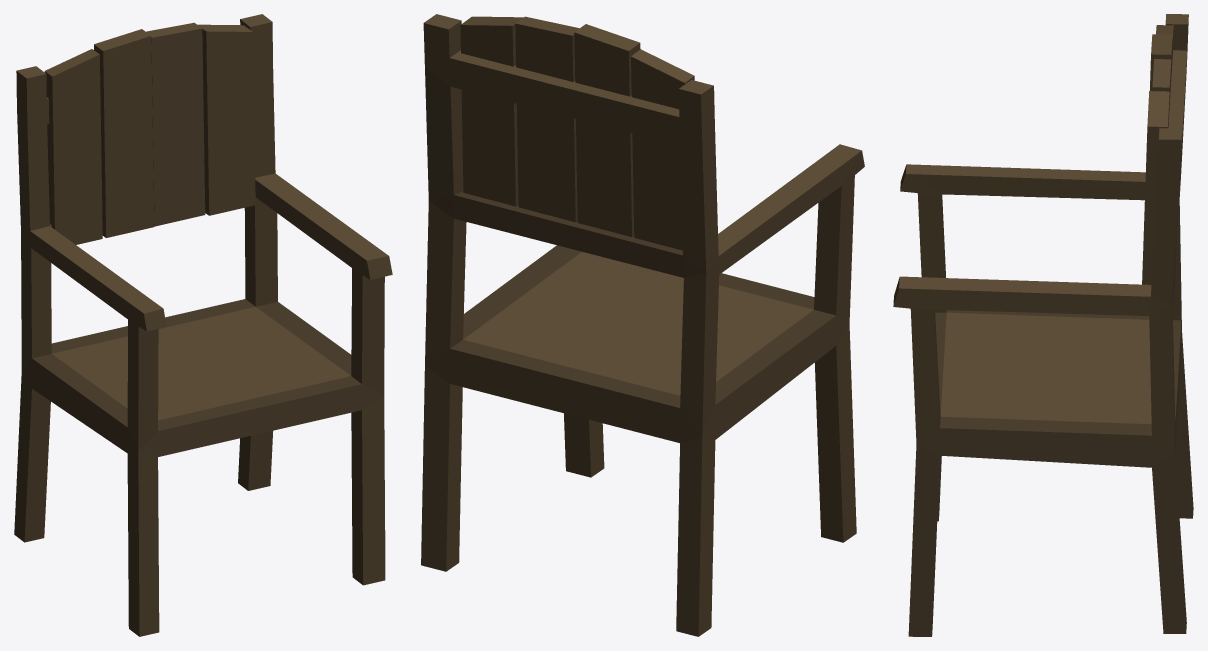
Rendered from SM_Prop_Chair_01.fbx.
3 views of the same model, side by side, from view 1: azimuth 30°, elevation 25°; view 2: azimuth 150°, elevation 25°; view 3: azimuth 270°, elevation 25° (orthographic). The views are drawn at different scales.
Parts seen in each view (by area): view 1: SM_Prop_Chair_01; view 2: SM_Prop_Chair_01; view 3: SM_Prop_Chair_01.
Part boxes in pixels (x1=…): SM_Prop_Chair_01: x1=14, y1=14, x2=392, y2=636; SM_Prop_Chair_01: x1=421, y1=14, x2=864, y2=636; SM_Prop_Chair_01: x1=893, y1=14, x2=1193, y2=636.
Size of the model in its own units: 55.67 by 104 by 54.49.
